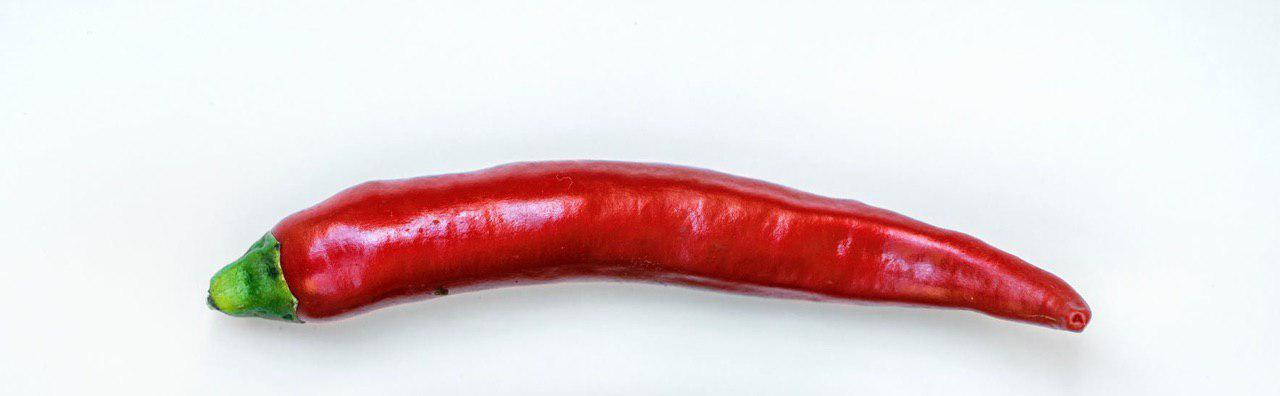lada merah: (227, 146, 1133, 364)
